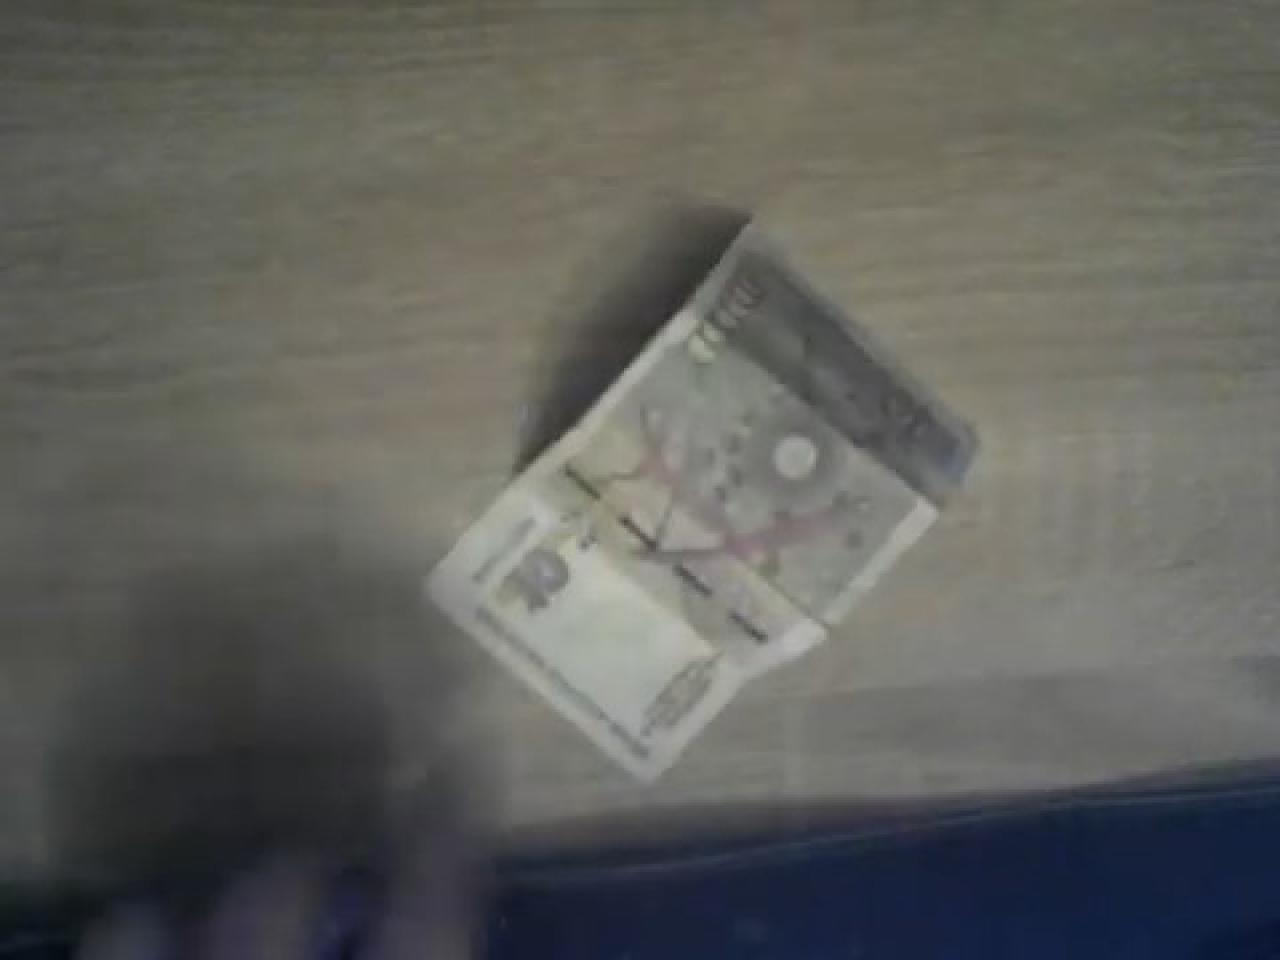10leva: (421, 227, 979, 782)
